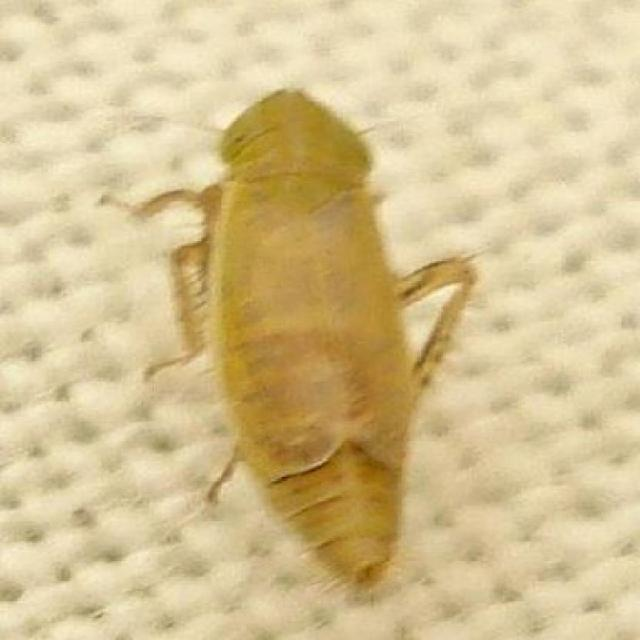green-leafhopper: (126, 75, 483, 576)
